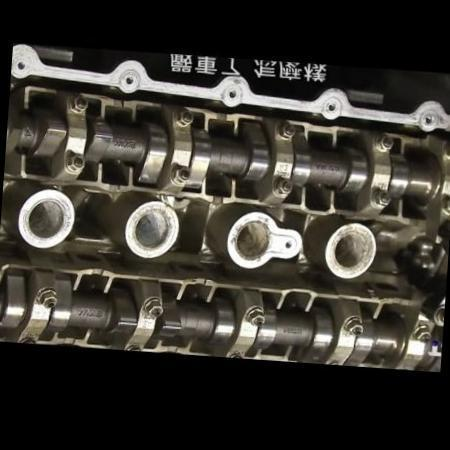hole: (226, 89, 238, 98), (15, 60, 25, 70), (326, 102, 336, 112), (424, 114, 433, 124), (124, 76, 134, 84)
